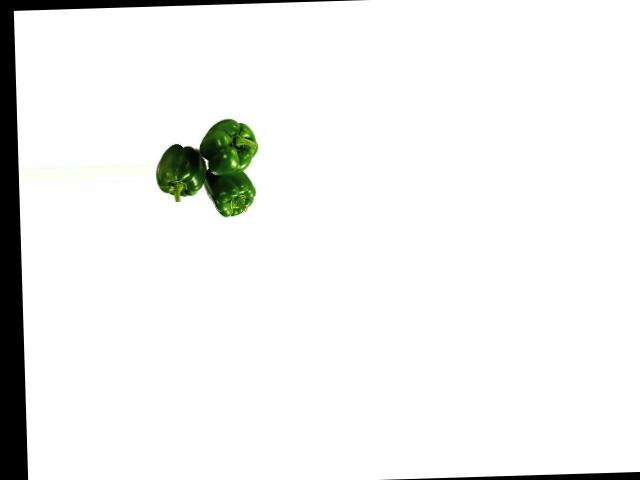bell_pepper: (199, 113, 263, 177)
